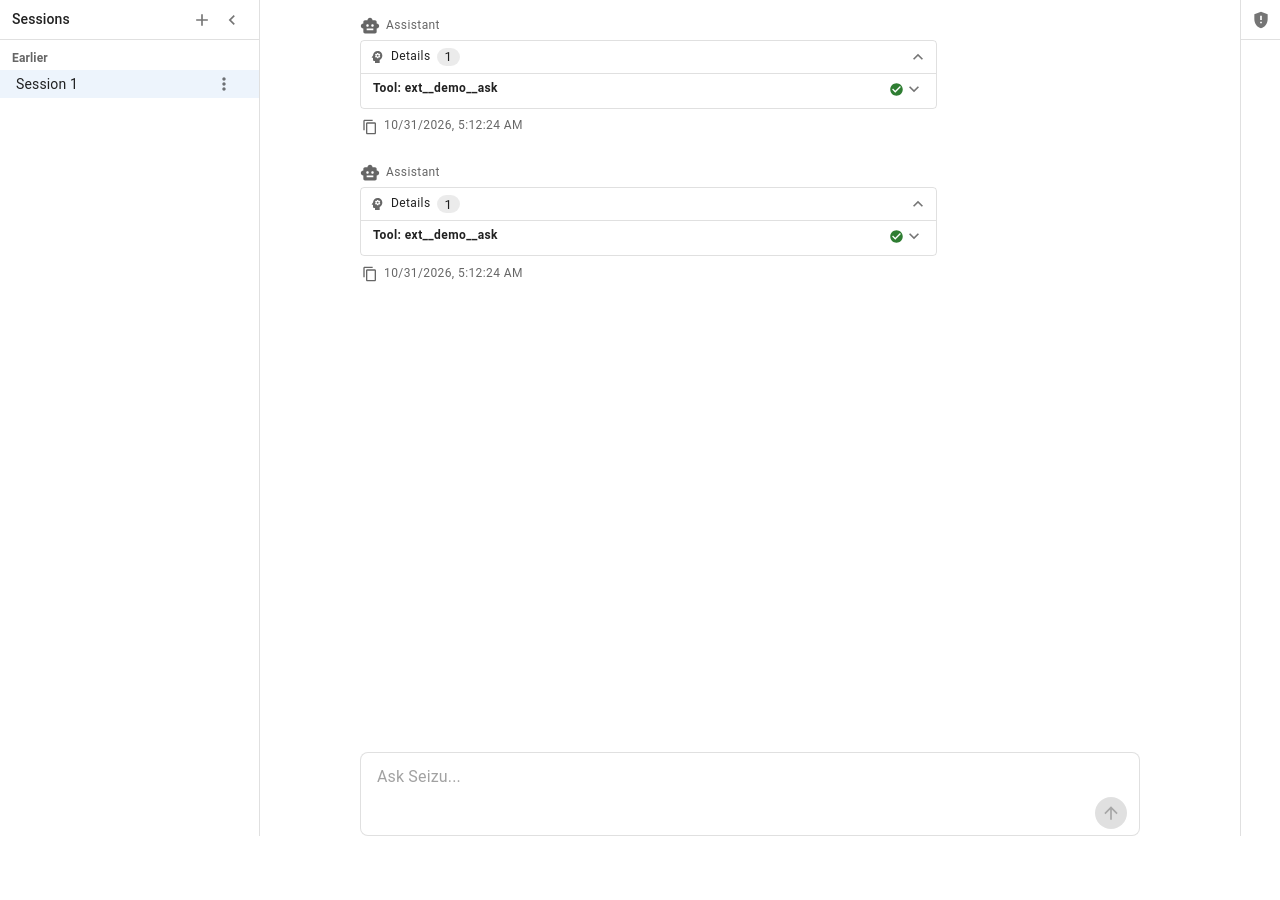
Test: ChatInterface › settles a parked tool detail onto the outcome its continuation recorded
Note: The parked turn's own row, not the continuation's, which stays collapsed.
Click the 1st button "Tool: ext__demo__ask".
click(435, 88)  # box left=365, top=74, right=932, bottom=104
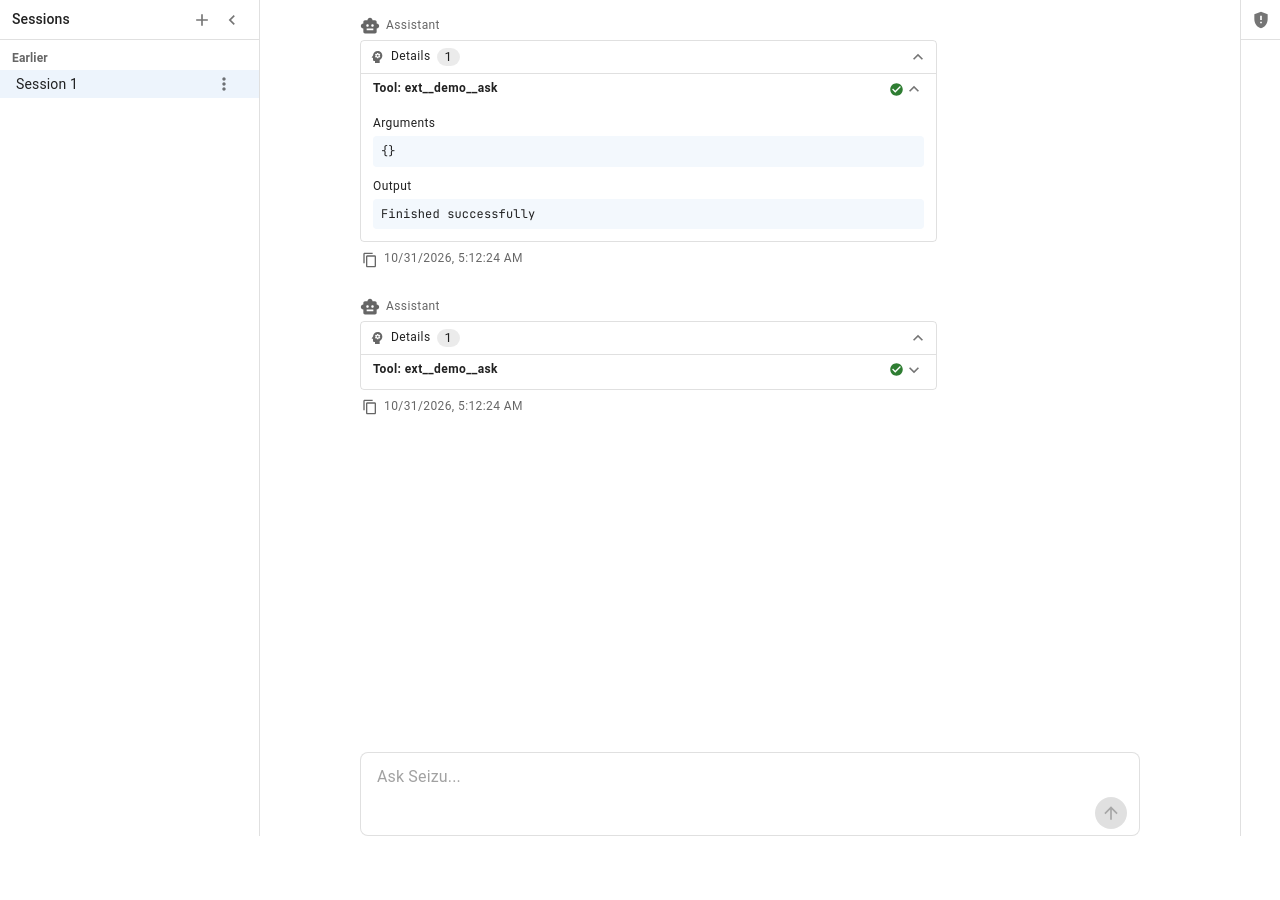
Result: the text "Finished successfully" is shown at left=373, top=199, right=924, bottom=229
